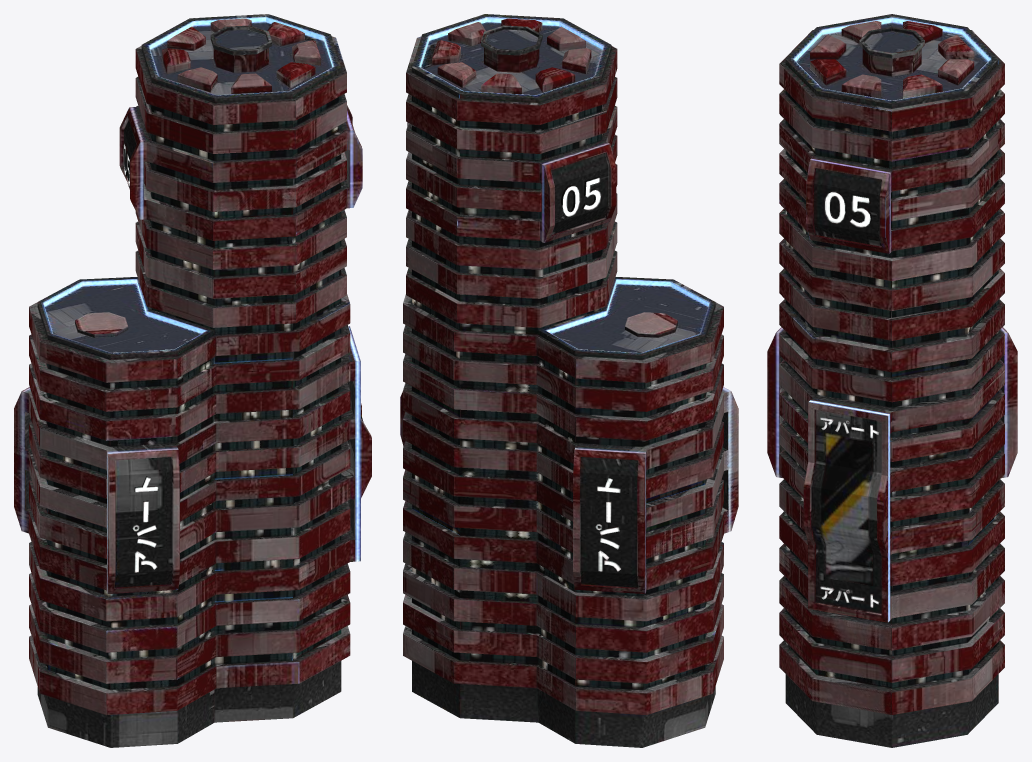
File: cylinder-building.glb
The picture shows the model from 3 angles, left to right: view 1: azimuth 30°, elevation 25°; view 2: azimuth 150°, elevation 25°; view 3: azimuth 270°, elevation 25°; orthographic projection. The views are drawn at different scales.
Visible parts, largest first — view 1: cylinder-building; view 2: cylinder-building; view 3: cylinder-building.
Boxes of the visible parts, x1=… form: cylinder-building: x1=14, y1=14, x2=371, y2=747; cylinder-building: x1=400, y1=14, x2=738, y2=747; cylinder-building: x1=767, y1=14, x2=1017, y2=747.
Size of the model in its own units: 72.17 by 140 by 47.84.
Materials: 1 (1 with a texture image).
